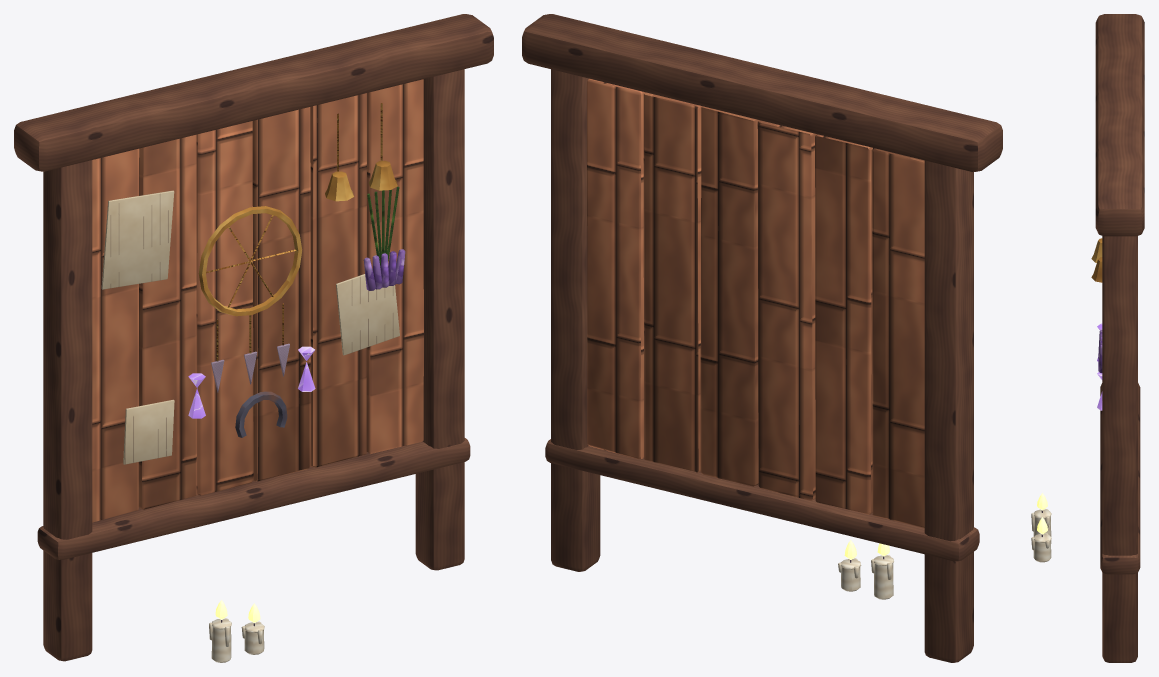
Rendered from notice_board.gltf.
3 views of the same model, side by side, from view 1: azimuth 30°, elevation 25°; view 2: azimuth 150°, elevation 25°; view 3: azimuth 270°, elevation 25° (orthographic). The views are drawn at different scales.
Visible parts, largest first — view 1: notice_board_mesh; view 2: notice_board_mesh; view 3: notice_board_mesh.
Boxes of the visible parts, x1,y1,x2,y2 form: notice_board_mesh: [14, 14, 493, 662]; notice_board_mesh: [522, 14, 1002, 662]; notice_board_mesh: [1031, 14, 1144, 662].
Size of what is drawn, in the model's own units: 2.1 by 2.33 by 0.5102.
Materials: 14 (11 with a texture image).
